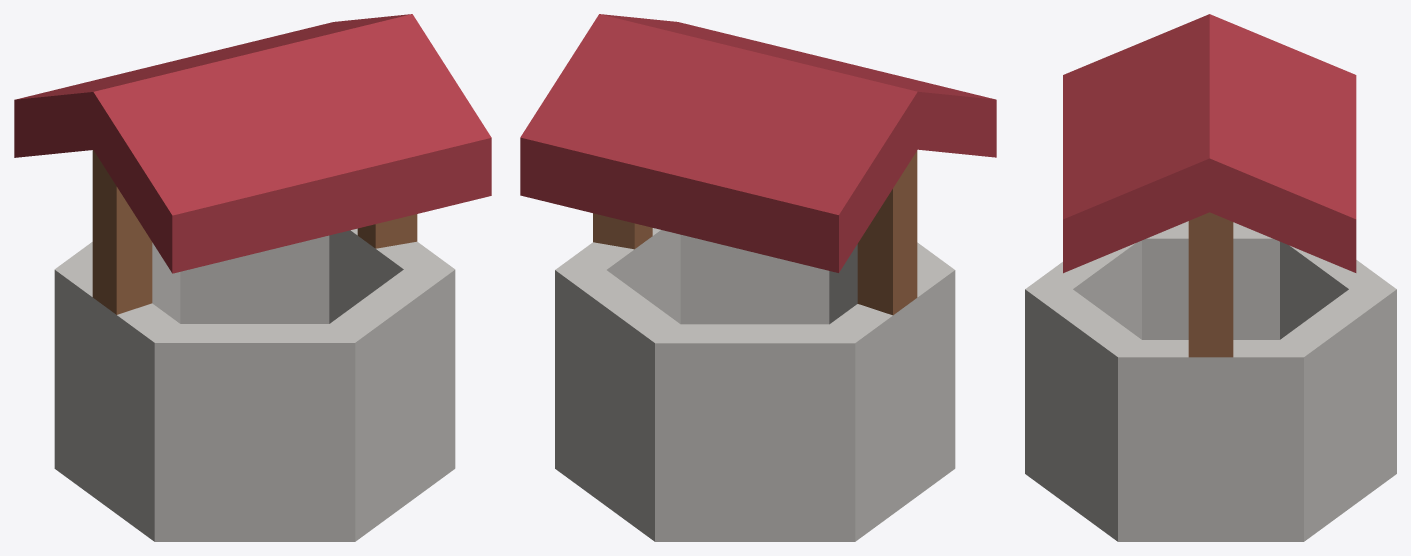
The model's file is Well.glb.
The picture shows the model from 3 angles, left to right: view 1: azimuth 30°, elevation 25°; view 2: azimuth 150°, elevation 25°; view 3: azimuth 270°, elevation 25°; orthographic projection. The views are drawn at different scales.
Visible parts, largest first — view 1: Well; view 2: Well; view 3: Well.
Boxes of the visible parts, bbox=[...] form: Well: bbox=[14, 14, 491, 541]; Well: bbox=[520, 14, 996, 541]; Well: bbox=[1025, 14, 1396, 541].
Bounding box in the file's own units: 0.5932 × 0.7404 × 0.6453.
